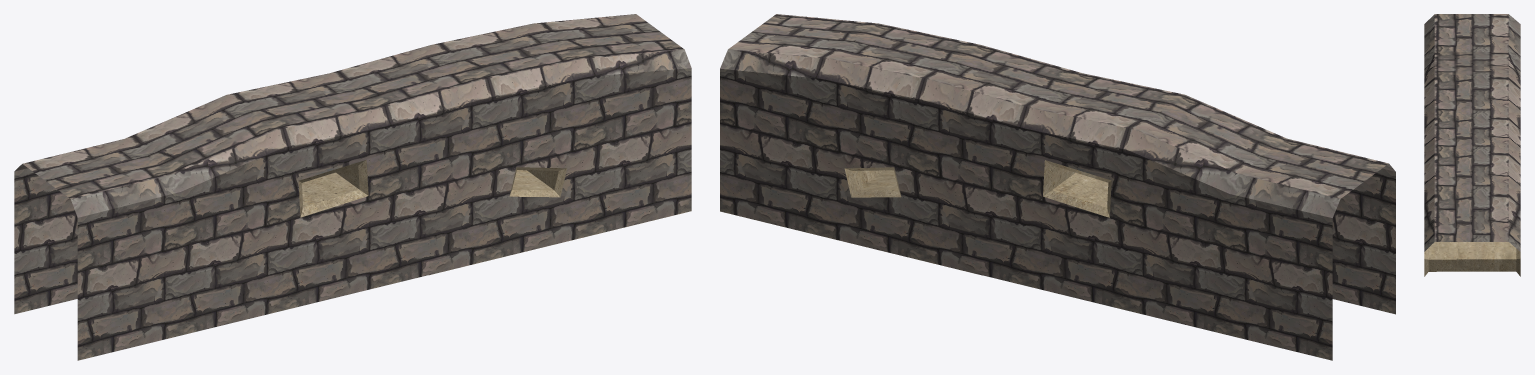
File: OuterWallC.fbx
3 renders of one model, left to right at view 1: azimuth 30°, elevation 25°; view 2: azimuth 150°, elevation 25°; view 3: azimuth 270°, elevation 25°, orthographic. The views are drawn at different scales.
Visible parts, largest first — view 1: polySurface29; view 2: polySurface29; view 3: polySurface29.
Boxes of the visible parts, left/top/right/bottom form: polySurface29: left=14, top=14, right=691, bottom=360; polySurface29: left=720, top=14, right=1395, bottom=360; polySurface29: left=1424, top=14, right=1520, bottom=276.
Size of the model in its own units: 11.18 by 3.06 by 2.
